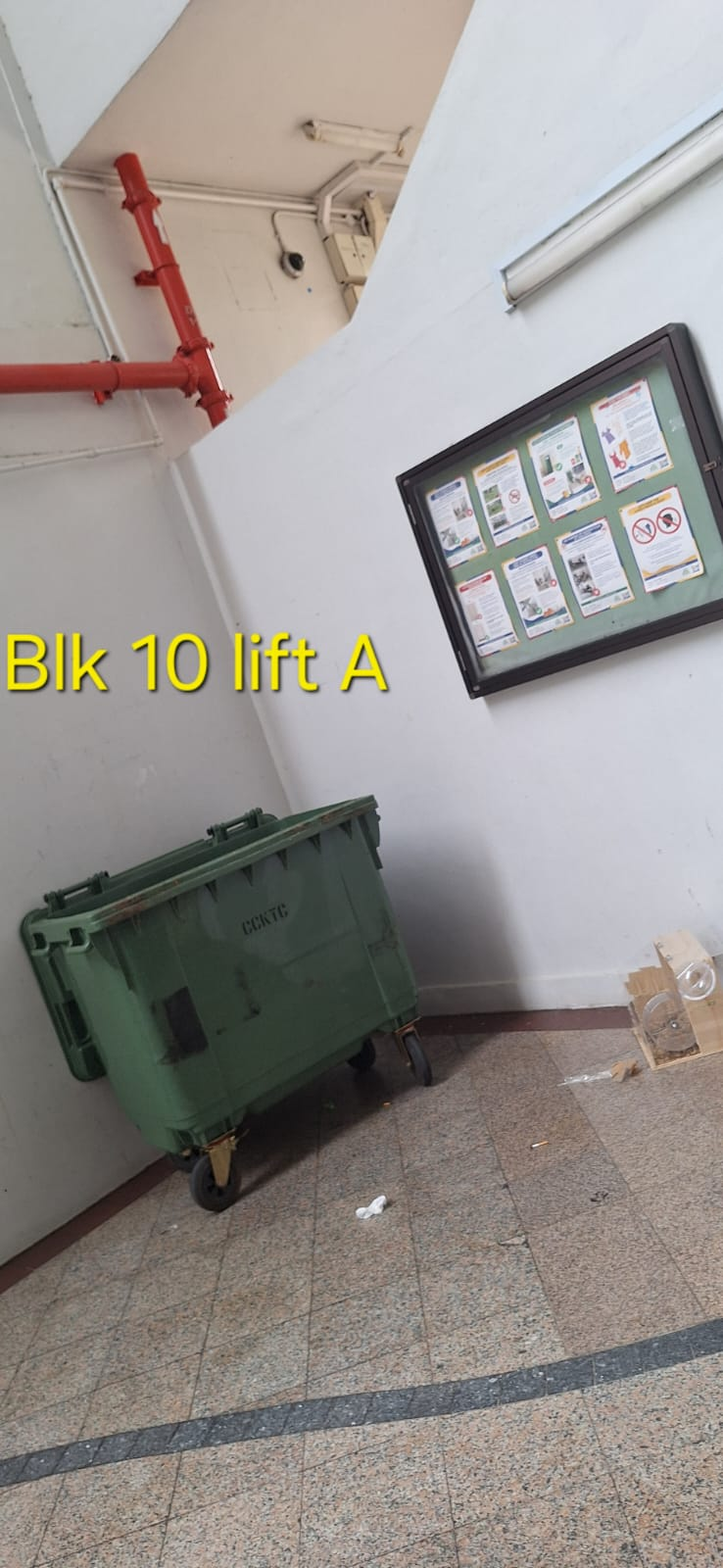bin_empty: (24, 797, 427, 1211)
